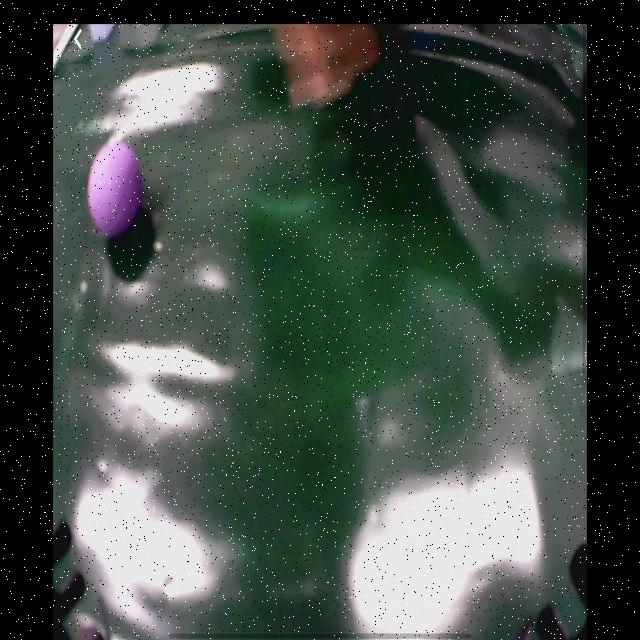ball: (88, 145, 143, 235)
